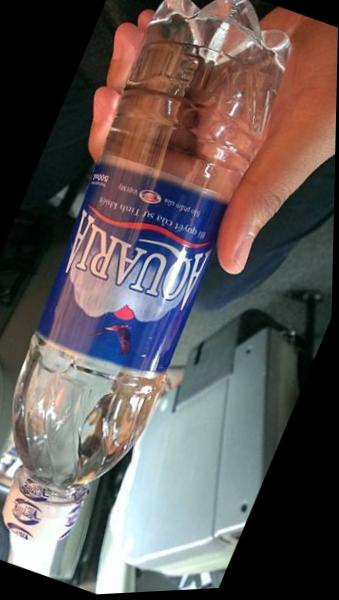plastic: (0, 0, 335, 439)
